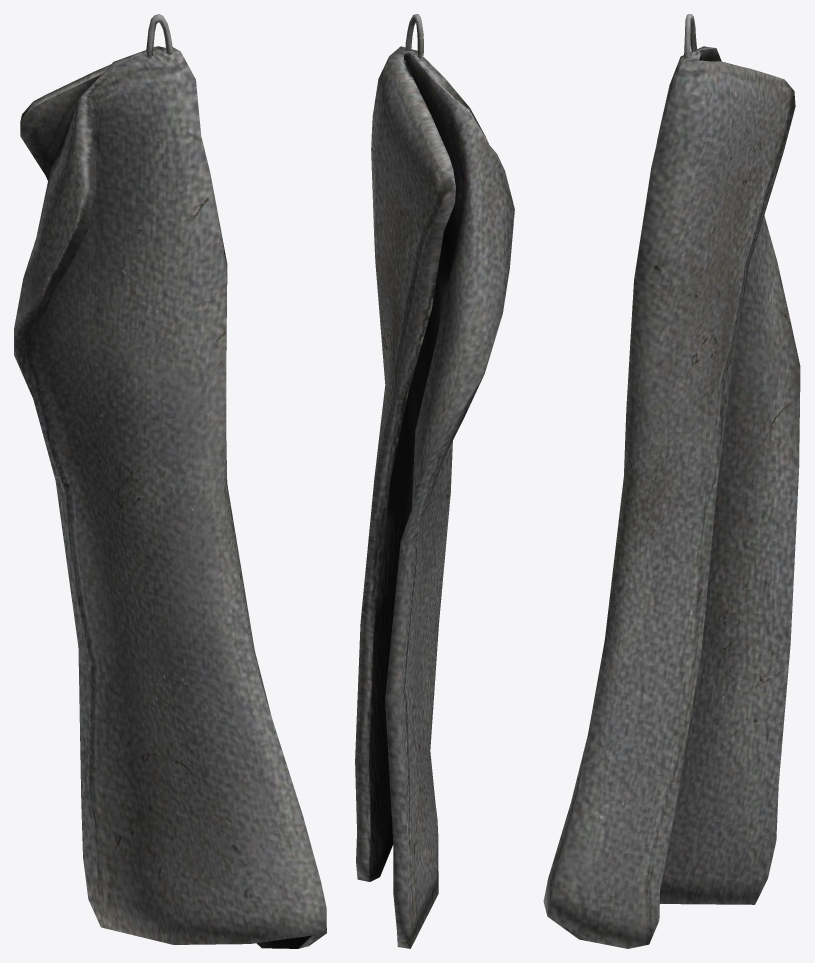
Rendered from towel_hanging.DAE.
3 renders of one model, left to right at view 1: azimuth 30°, elevation 25°; view 2: azimuth 150°, elevation 25°; view 3: azimuth 270°, elevation 25°, orthographic. The views are drawn at different scales.
Parts seen in each view (by area): view 1: hanging1; view 2: hanging1; view 3: hanging1.
Boxes of the visible parts, x1,y1,x2,y2 form: hanging1: (14, 14, 326, 948); hanging1: (355, 14, 514, 948); hanging1: (543, 14, 800, 948).
Size of the model in its own units: 0.3602 by 1.57 by 0.4066.
